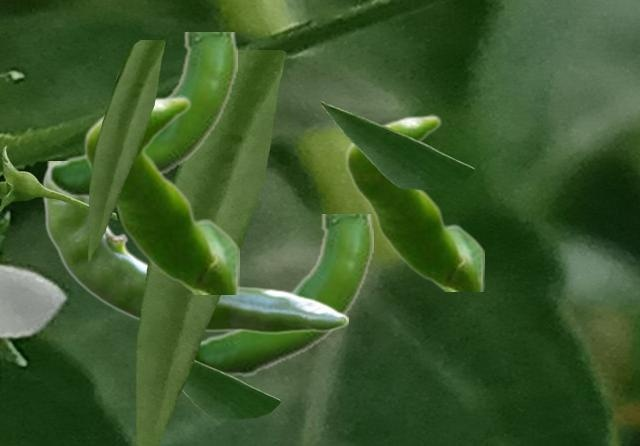green_chili: (42, 161, 347, 333), (46, 32, 236, 198), (83, 95, 238, 293), (196, 214, 372, 377), (345, 114, 483, 290)
